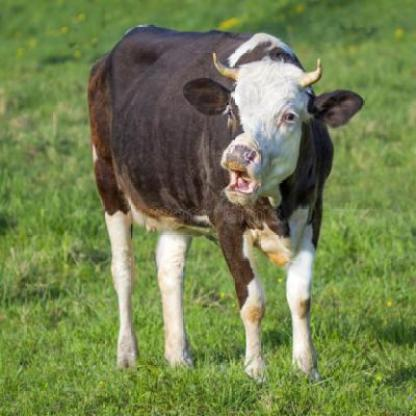lower: (232, 192, 243, 206)
mouth: (220, 140, 262, 206)
upper: (233, 146, 246, 160)
